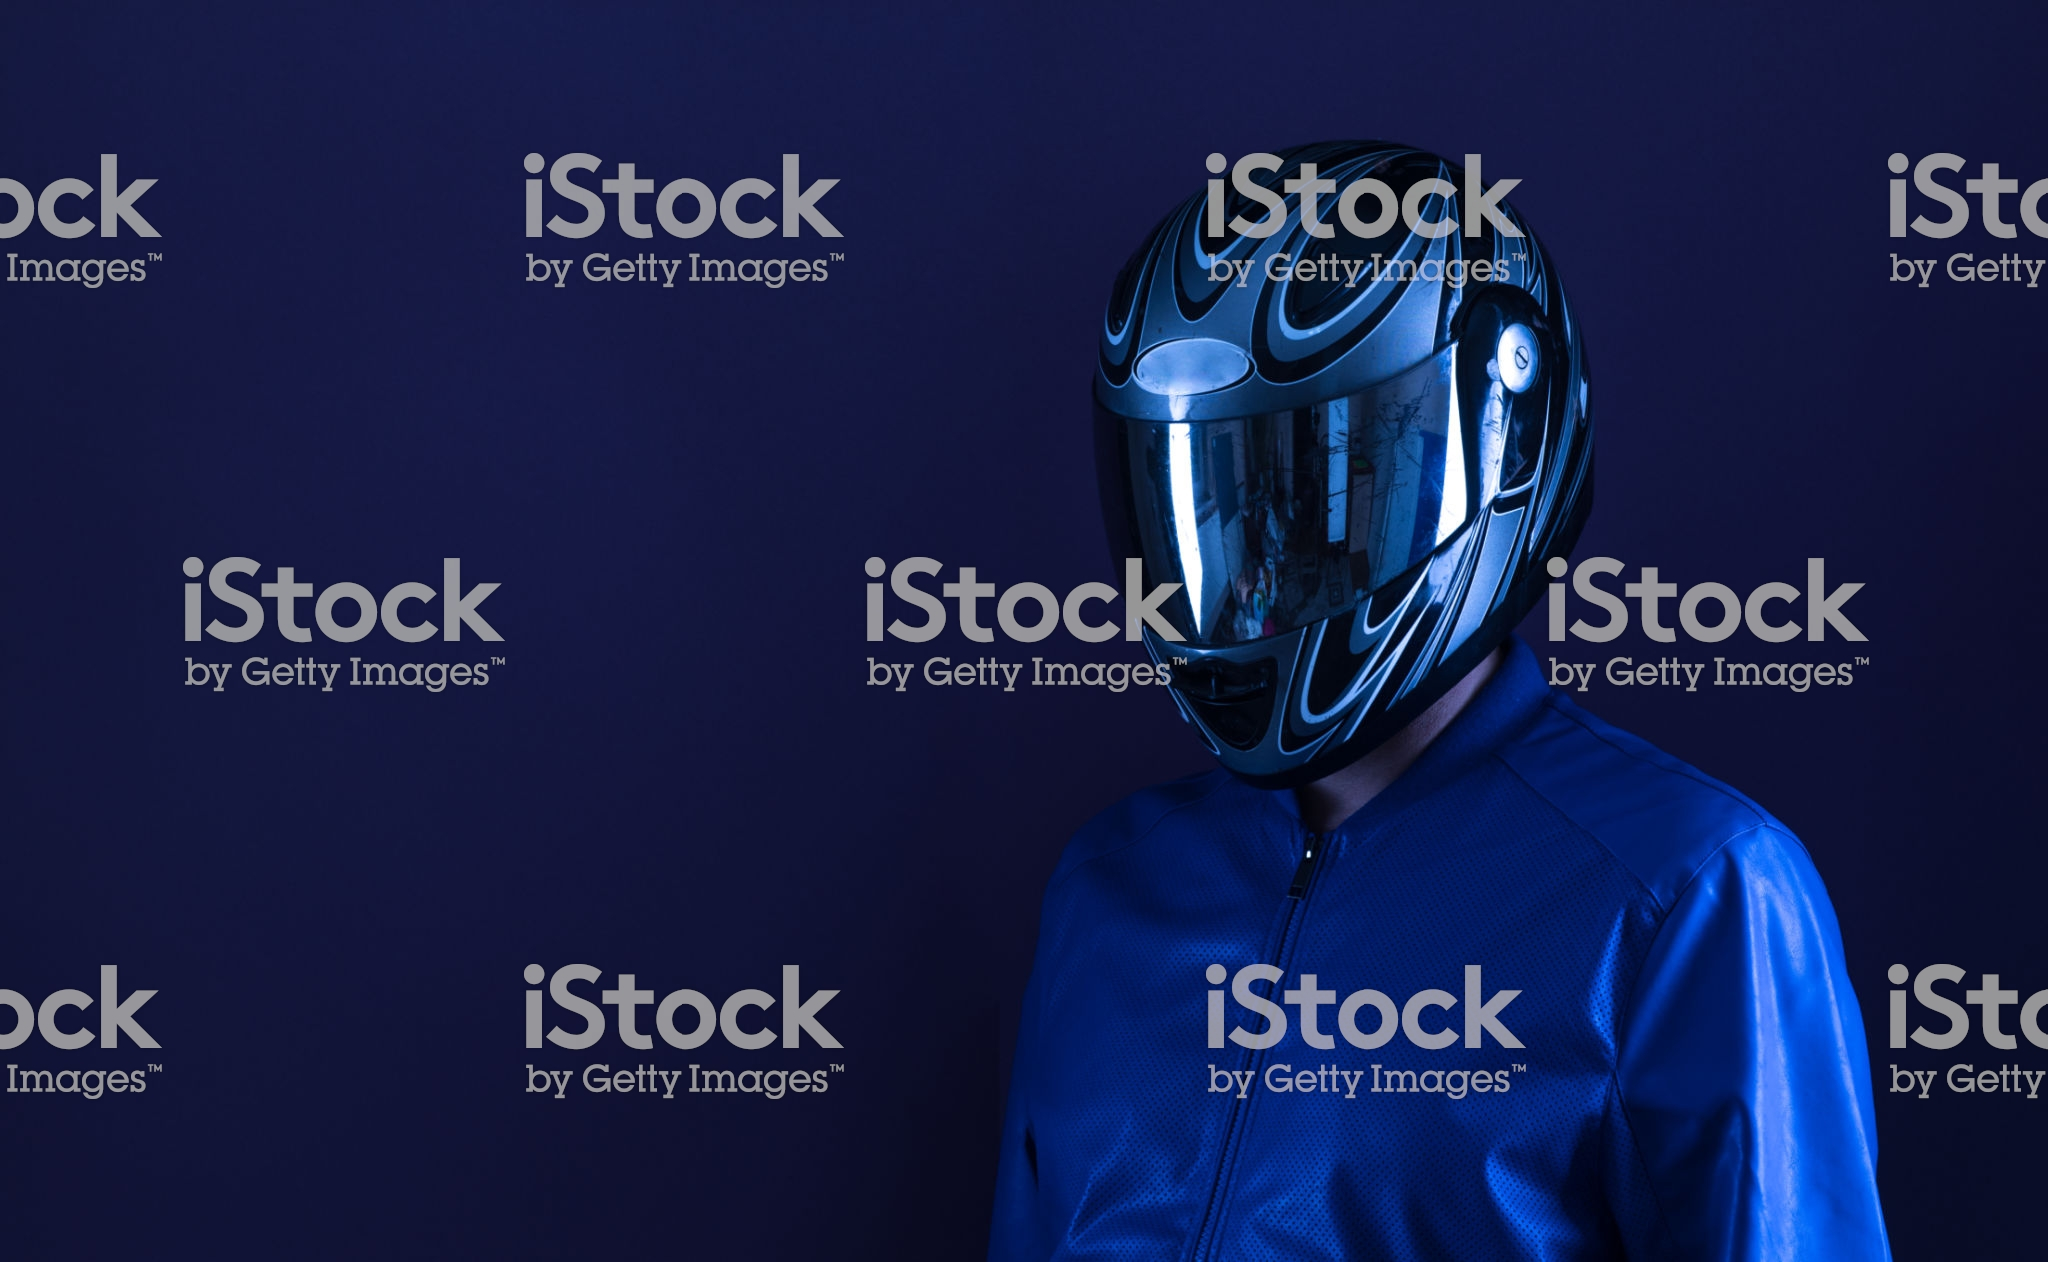helmet: (1058, 156, 1581, 796)
